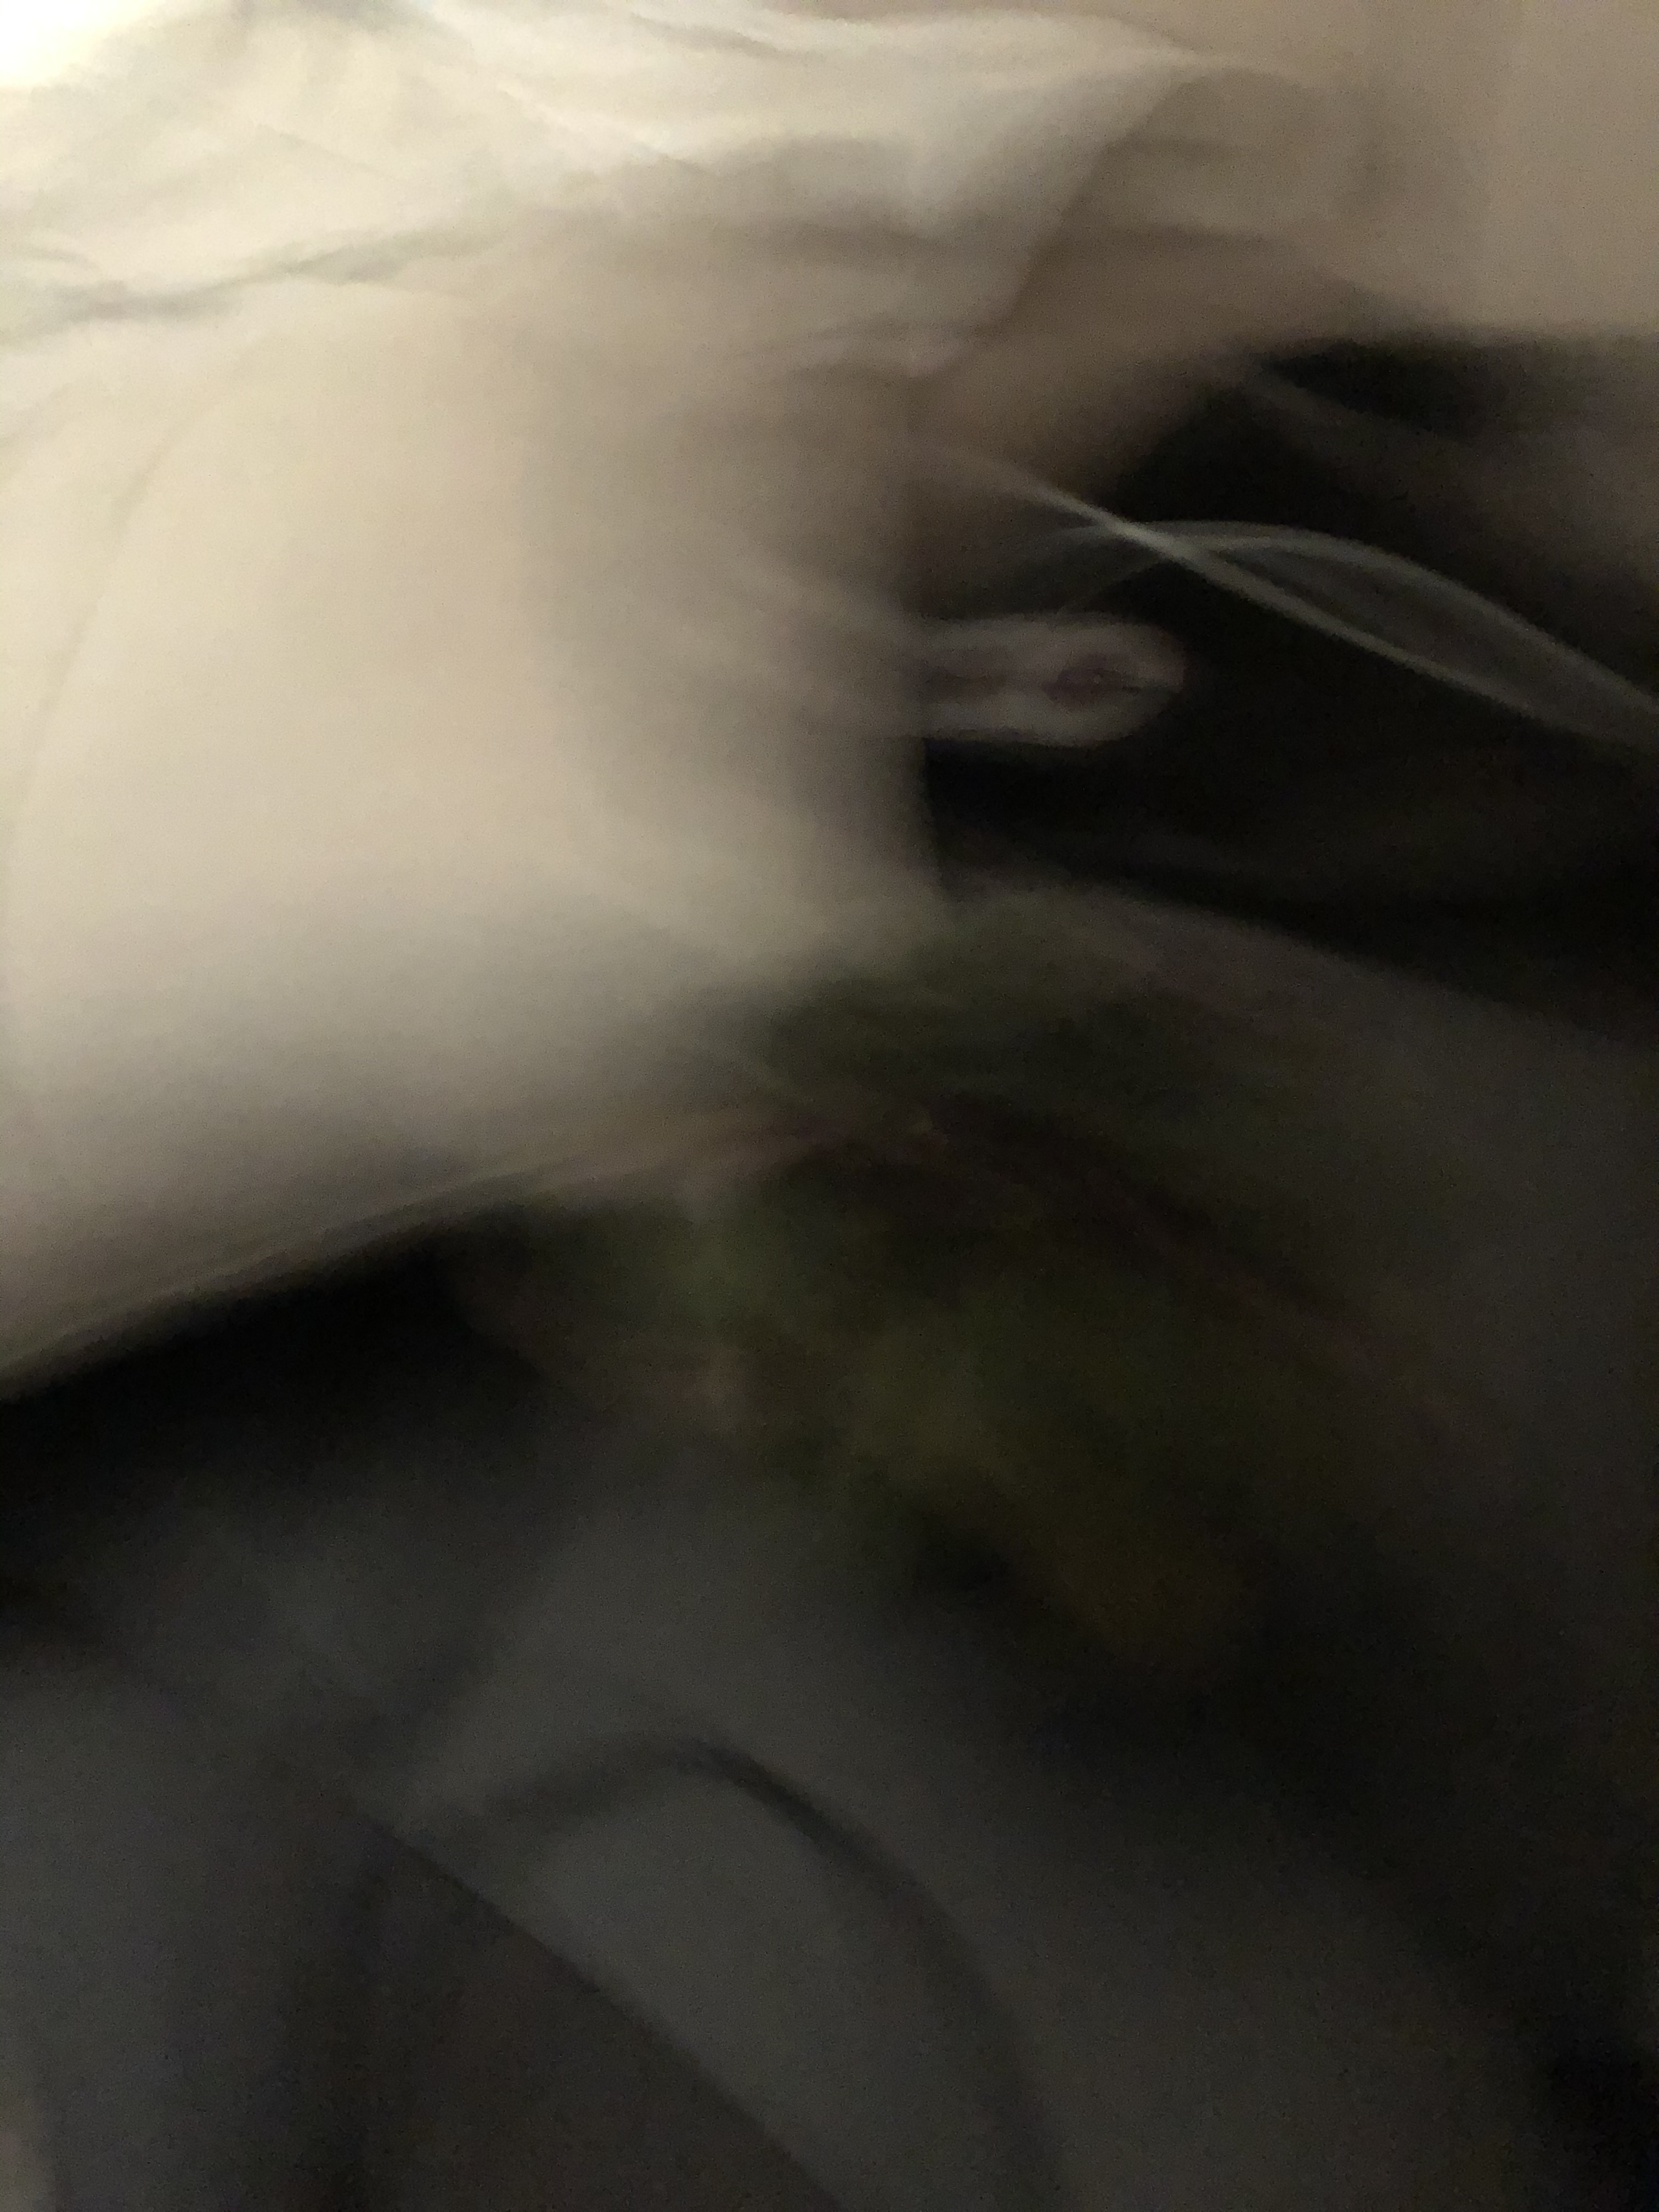ignore: (645, 871, 1485, 1637)
